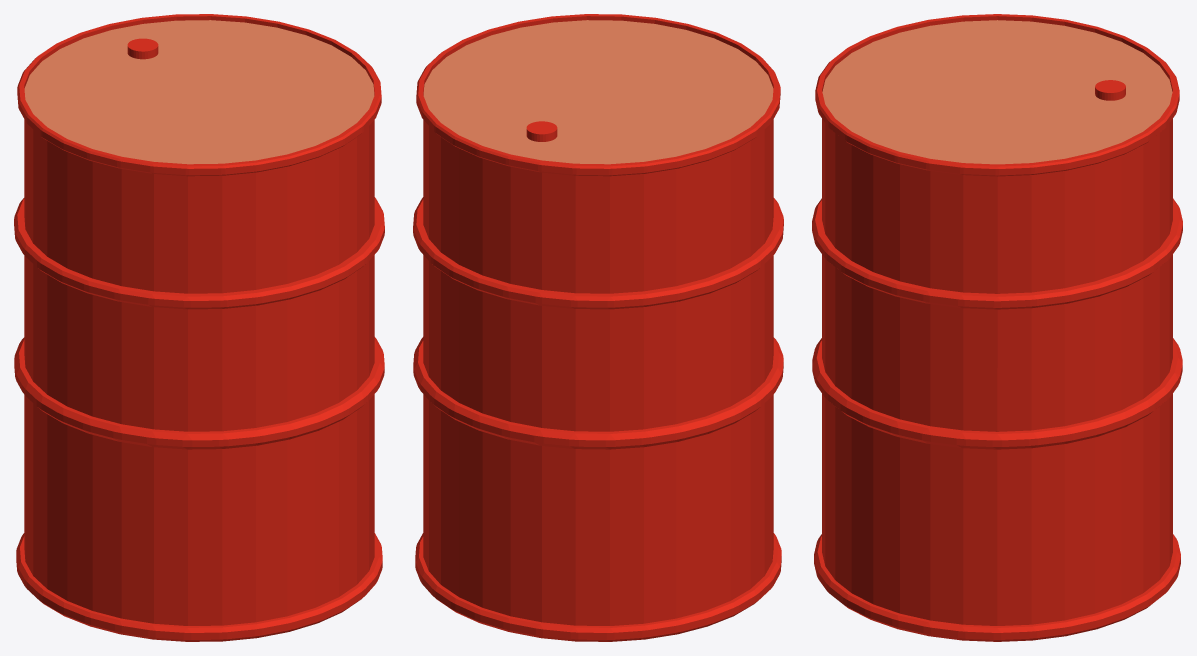
File: fuel-drum.glb
3 renders of one model, left to right at view 1: azimuth 30°, elevation 25°; view 2: azimuth 150°, elevation 25°; view 3: azimuth 270°, elevation 25°, orthographic.
Parts seen in each view (by area): view 1: Cylinder; view 2: Cylinder; view 3: Cylinder.
Boxes of the visible parts, x1,y1,x2,y2 form: Cylinder: (14, 14, 384, 641); Cylinder: (413, 14, 783, 641); Cylinder: (812, 14, 1182, 641).
Size of the model in its own units: 0.5283 by 0.7533 by 0.5283.
